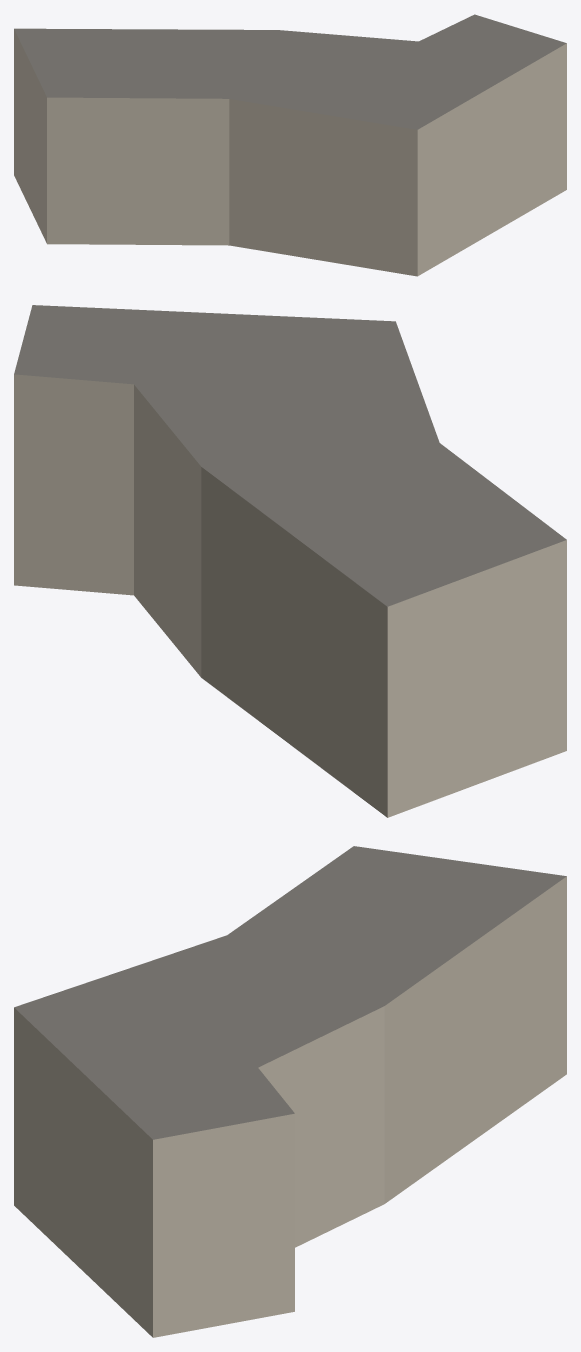
3 views of the same model, one above another, from view 1: azimuth 30°, elevation 25°; view 2: azimuth 150°, elevation 25°; view 3: azimuth 270°, elevation 25° (orthographic). The views are drawn at different scales.
Parts seen in each view (by area): view 1: HP-w859488789; view 2: HP-w859488789; view 3: HP-w859488789.
Part boxes in pixels (bbox=[...]): HP-w859488789: bbox=[14, 14, 566, 276]; HP-w859488789: bbox=[14, 305, 566, 817]; HP-w859488789: bbox=[14, 846, 566, 1337].
Size of the model in its own units: 57.25 by 18 by 45.54.
